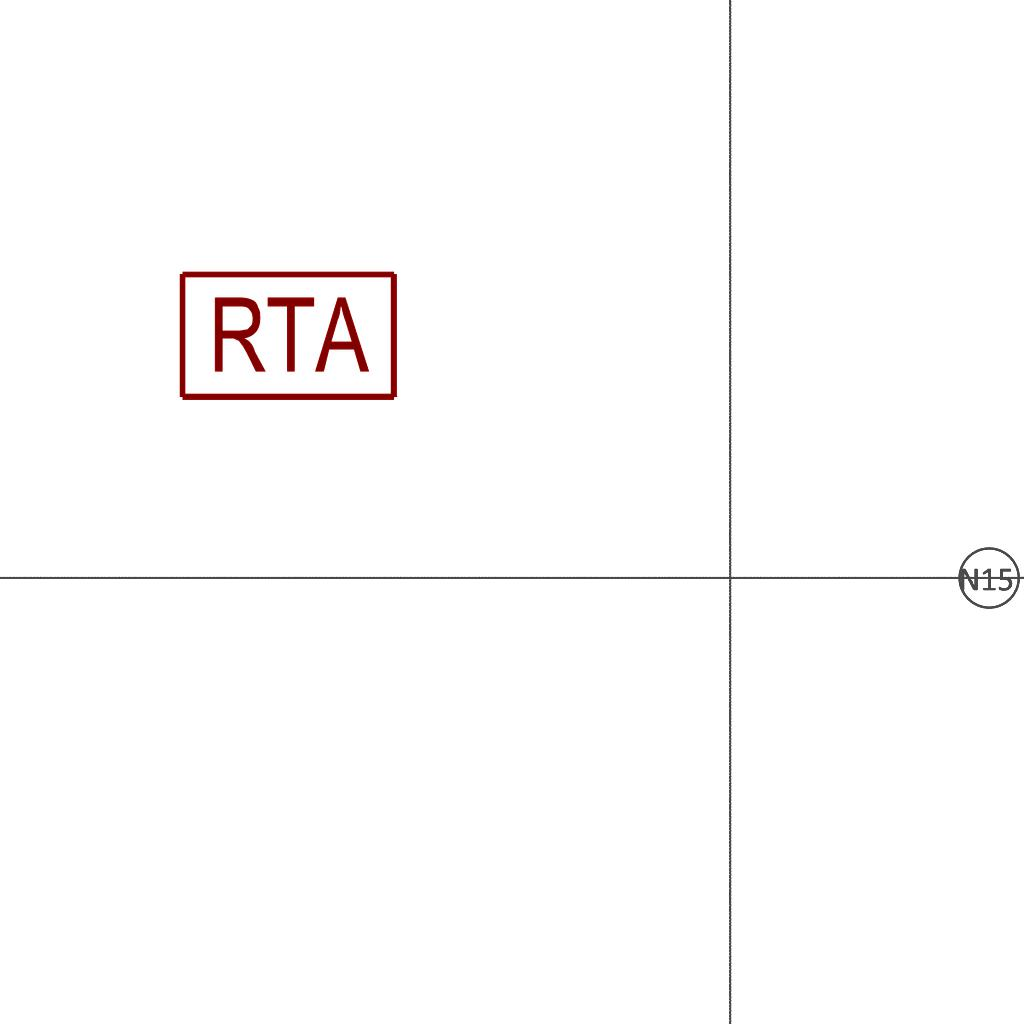Ruf-und_Abstelltaster: (172, 267, 400, 405)
